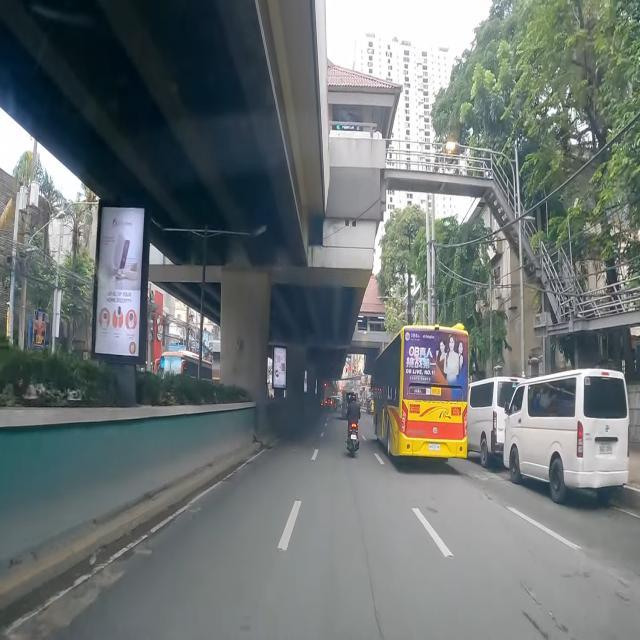bus: (372, 324, 468, 469), (154, 350, 213, 380)
car: (503, 369, 629, 507), (468, 376, 527, 467)
motorcycle: (346, 394, 361, 458)
